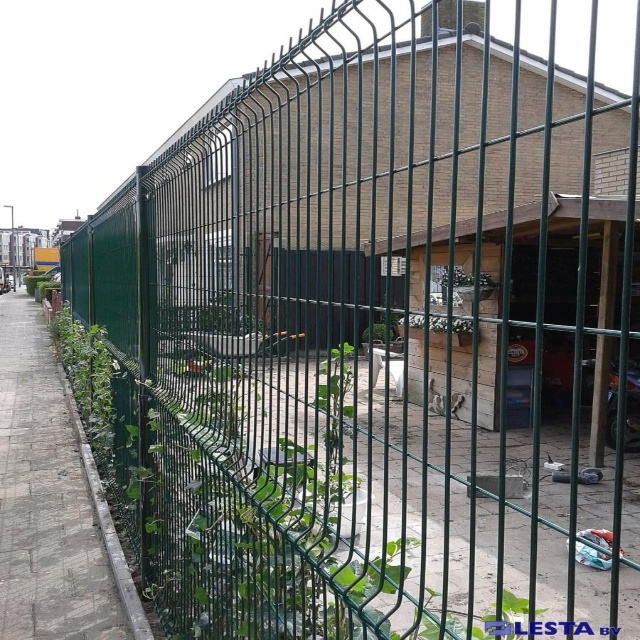obstacle: (30, 132, 640, 430)
